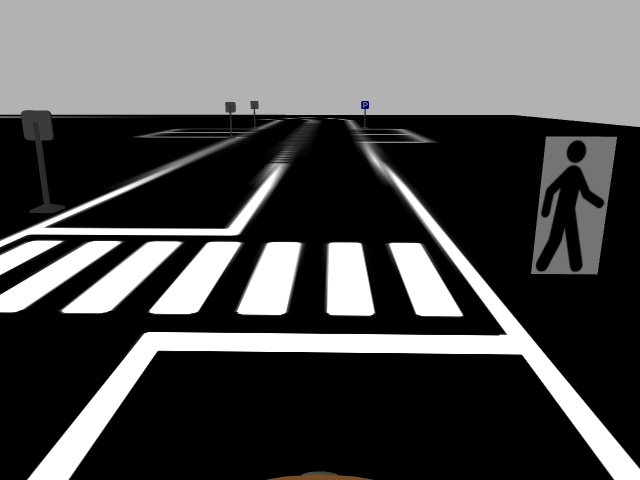parking: (359, 99, 371, 111)
pedestrian: (528, 134, 619, 278)
